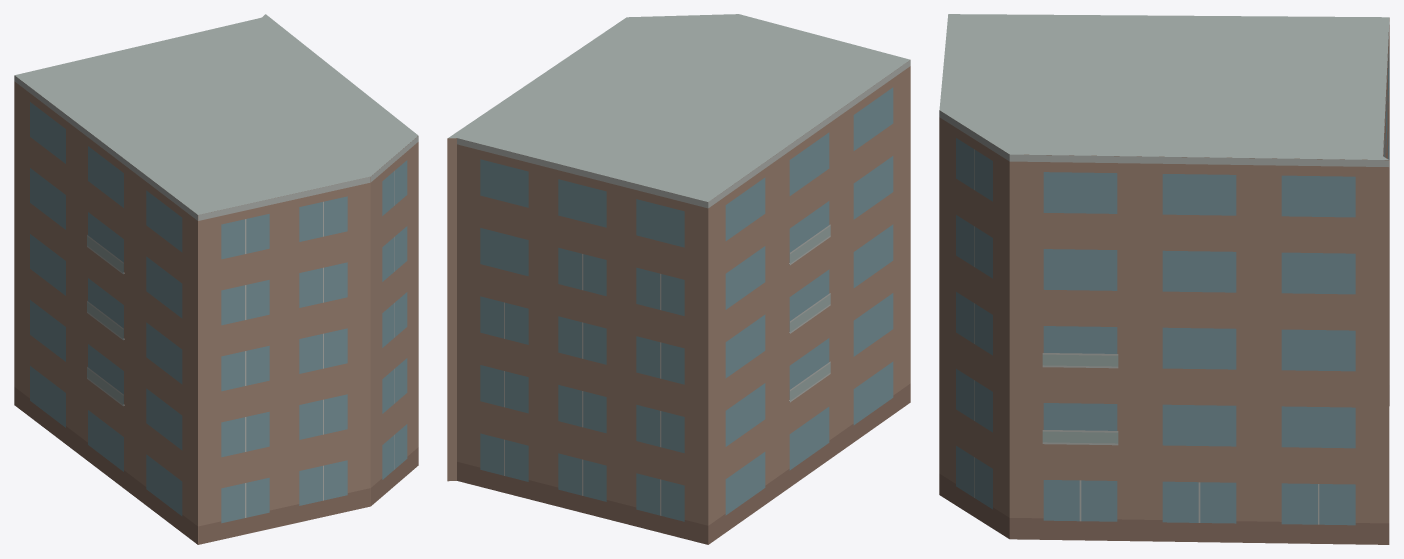
Rendered from survey-upis-32858297.glb.
3 renders of one model, left to right at view 1: azimuth 30°, elevation 25°; view 2: azimuth 150°, elevation 25°; view 3: azimuth 270°, elevation 25°, orthographic. The views are drawn at different scales.
Visible parts, largest first — view 1: survey-upis-32858297.tmp; view 2: survey-upis-32858297.tmp; view 3: survey-upis-32858297.tmp.
Part boxes in pixels (bbox=[...]): survey-upis-32858297.tmp: bbox=[14, 14, 418, 544]; survey-upis-32858297.tmp: bbox=[447, 14, 910, 544]; survey-upis-32858297.tmp: bbox=[939, 14, 1389, 544].
Bounding box in the file's own units: 10.84 × 13.3 × 14.11.
